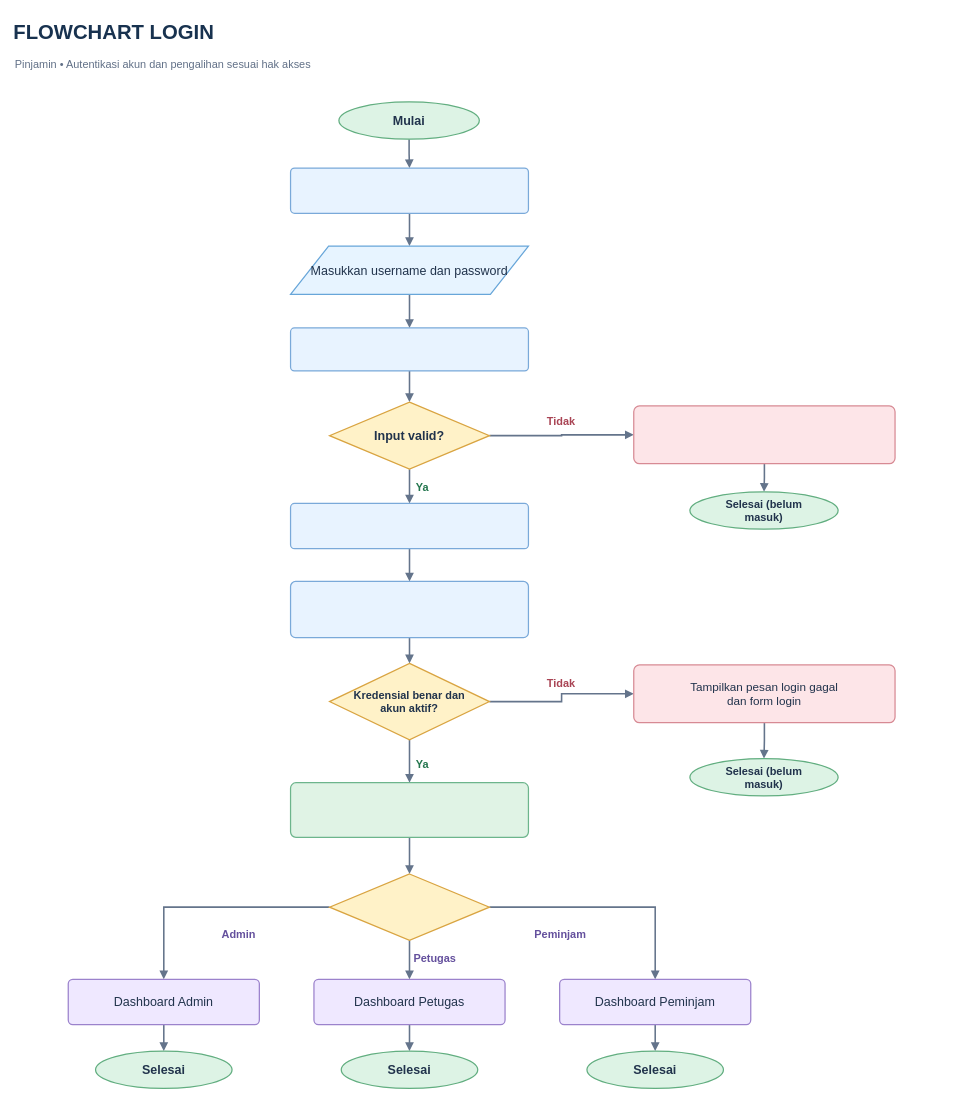
Some shapes in this 956 by 1102 pixel diagram are drawn without their labels. The centre of each missing label's shape, as x and y in pixels:
"Buat sesi autentikasi dan regenerasi session ID" belongs at point (409, 810).
"Cari akun dengan PDO" belongs at point (409, 525).
"Periksa input tidak kosong" belongs at point (409, 349).
"Role pengguna?" belongs at point (409, 907).
"Tampilkan halaman login" belongs at point (409, 190).
"Tampilkan pesan input tidak lengkap dan form login" belongs at point (764, 434).
"Verifikasi password dengan password_verify() serta status akun" belongs at point (409, 609).
